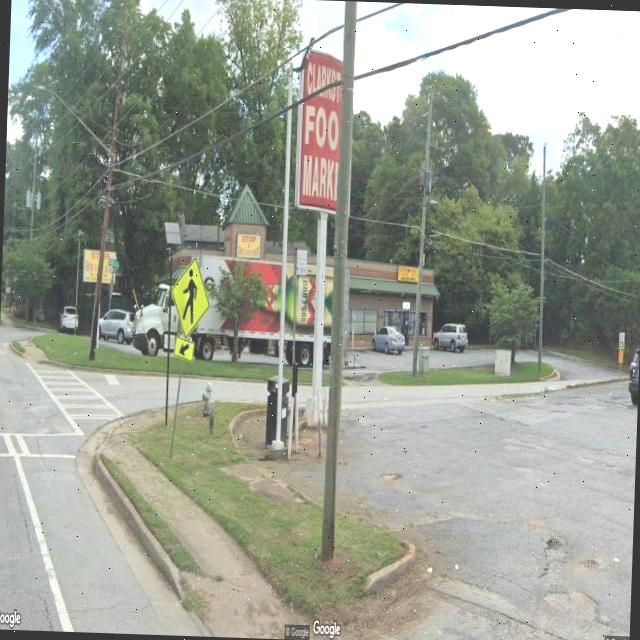trash_can: (266, 376, 290, 444)
